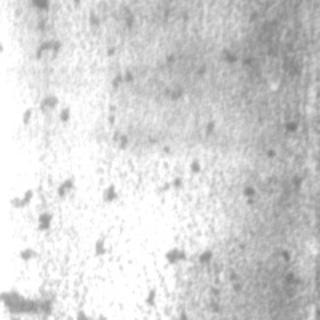pitted_surface: (79, 7, 293, 272), (0, 0, 78, 318)
